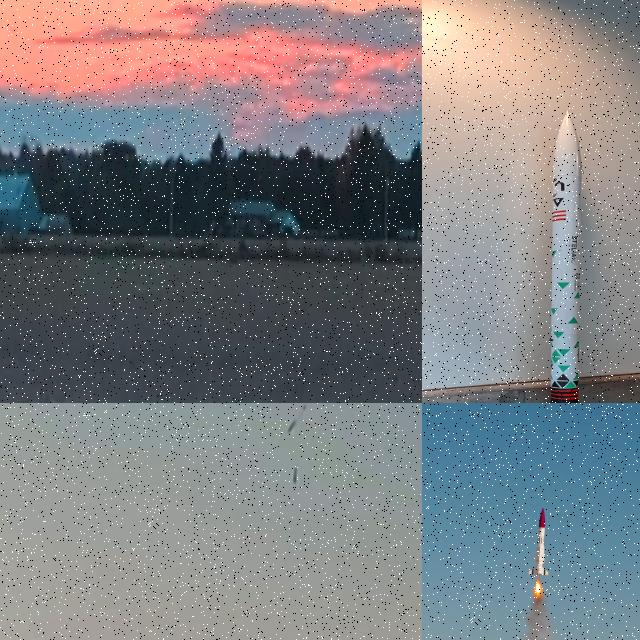Rocket: (550, 110, 581, 403), (527, 508, 552, 576), (293, 465, 297, 484)
